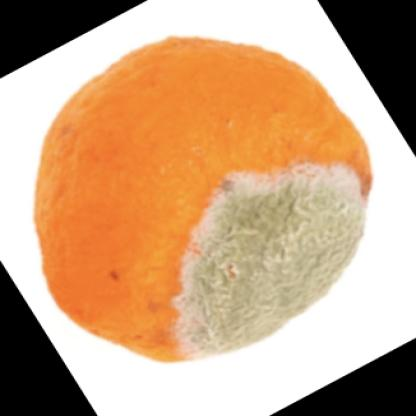rotten: (37, 37, 373, 363)
